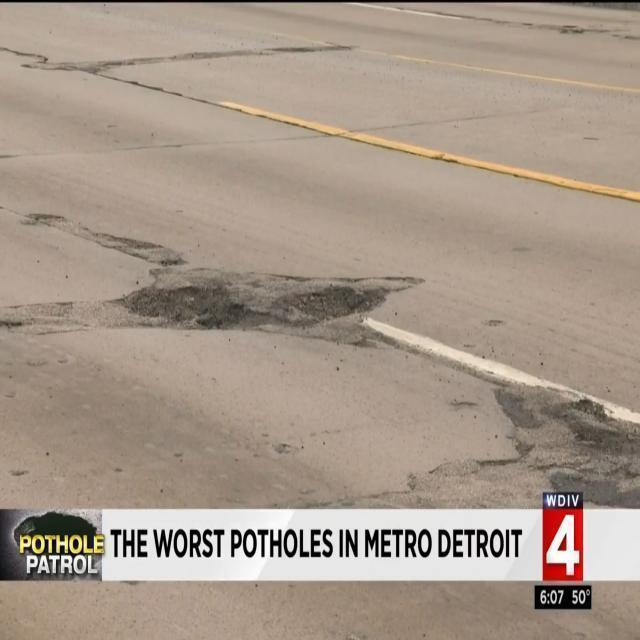Pothole: (106, 269, 410, 339), (499, 384, 638, 502)
